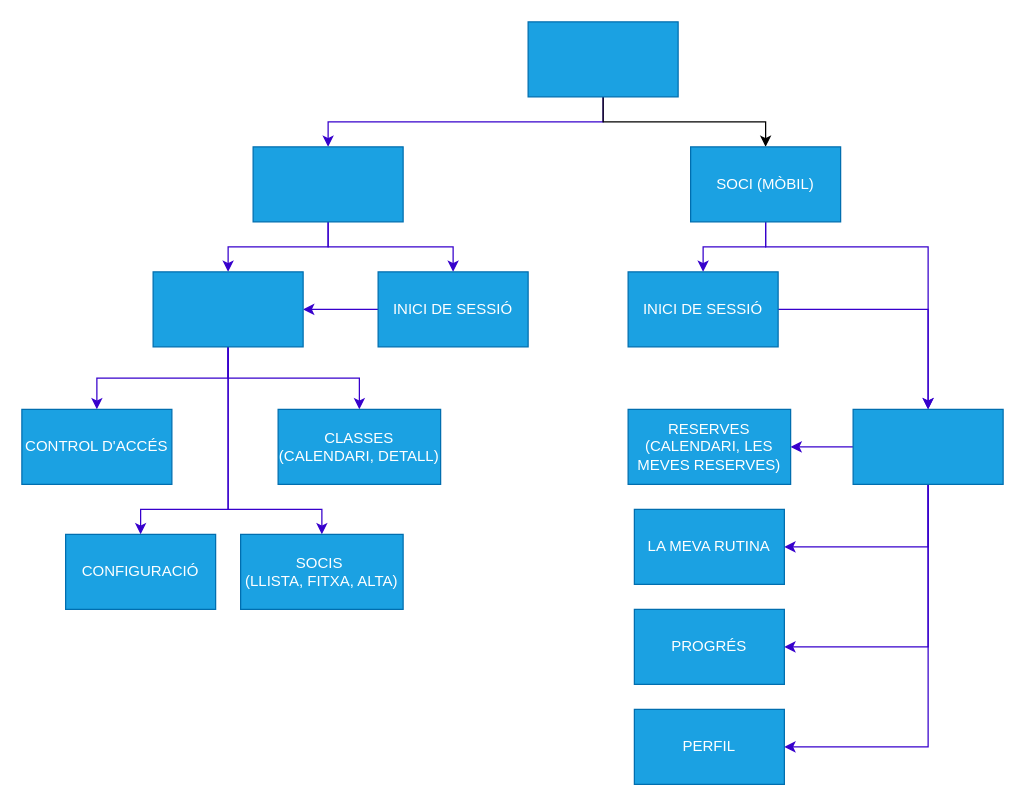
Some shapes in this 1025 by 806 pixel diagram are drawn without their labels. Each missing label, with the centre of its shape:
GYMFLOW: the point at 602,59
INICI: the point at 927,446
RECEPCIÓ (Escriptori): the point at 327,184
TAULER ()DASHBOARD): the point at 227,309
